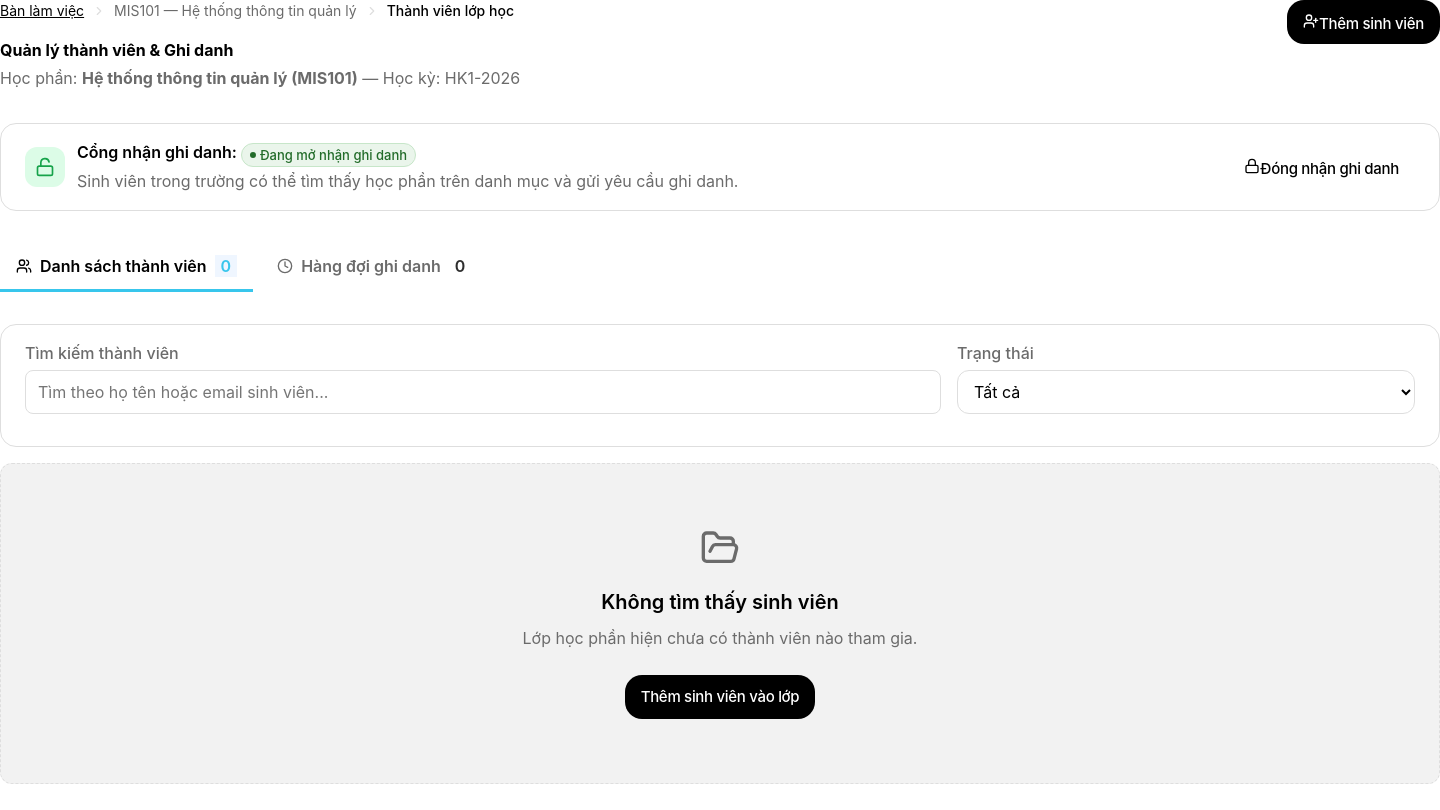
Test: B07-06 Teacher Course Members & Enrollment Requests UI › 8. Từ chối yêu cầu mở modal nhập lý do và gọi coursesService.rejectEnrollmentRequest
This screenshot has width=1440, height=810.
Click the tab "Hàng đợi ghi danh 0". click: coordinates (374, 268)
box: top-left (261, 243), bottom-right (487, 292)
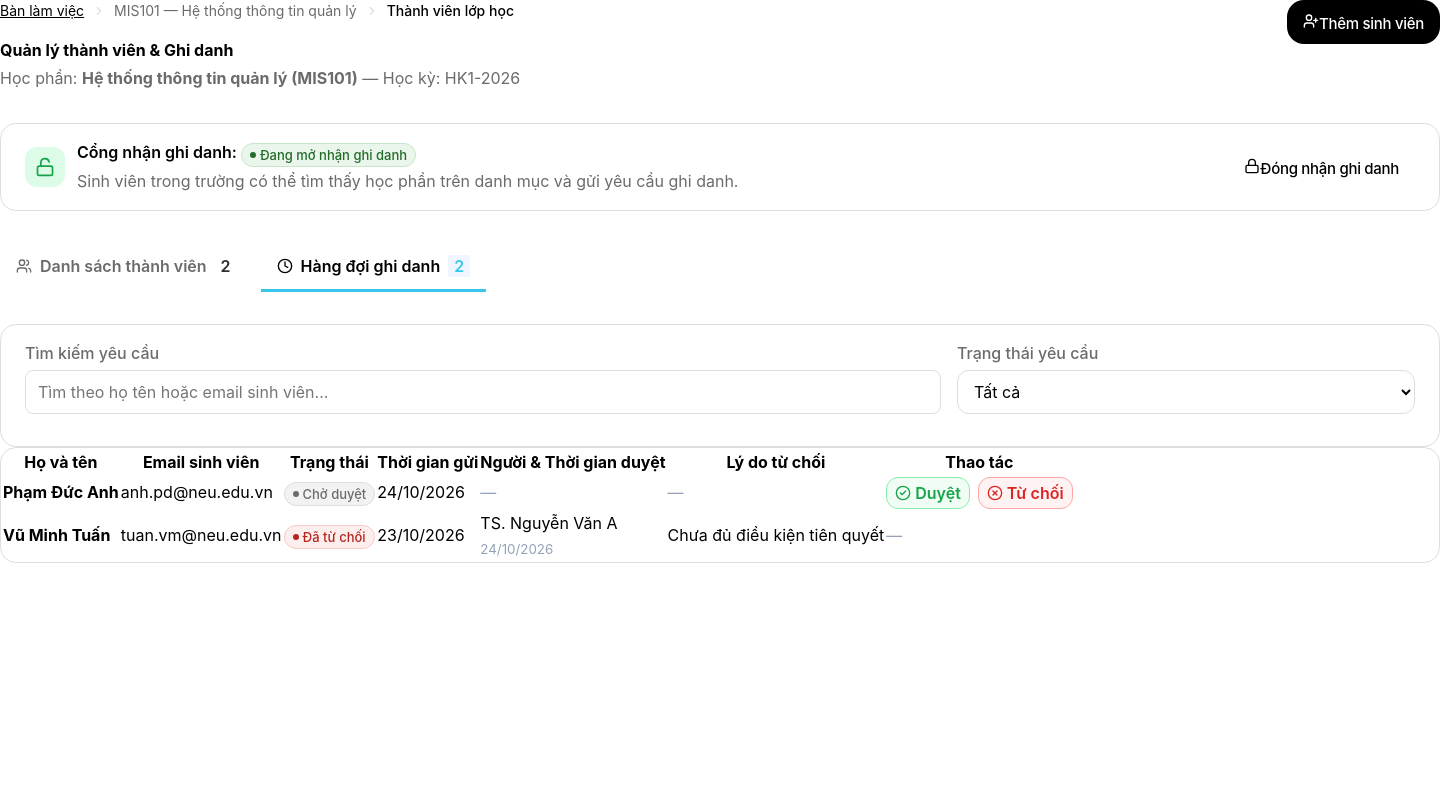
Expected: the text "Phạm Đức Anh" is shown, top-left (3, 482), bottom-right (119, 502)
Click the button with aria-label "Từ chối yêu cầu Phạm Đức Anh". click: coordinates (1025, 493)
box: top-left (978, 477), bottom-right (1073, 509)
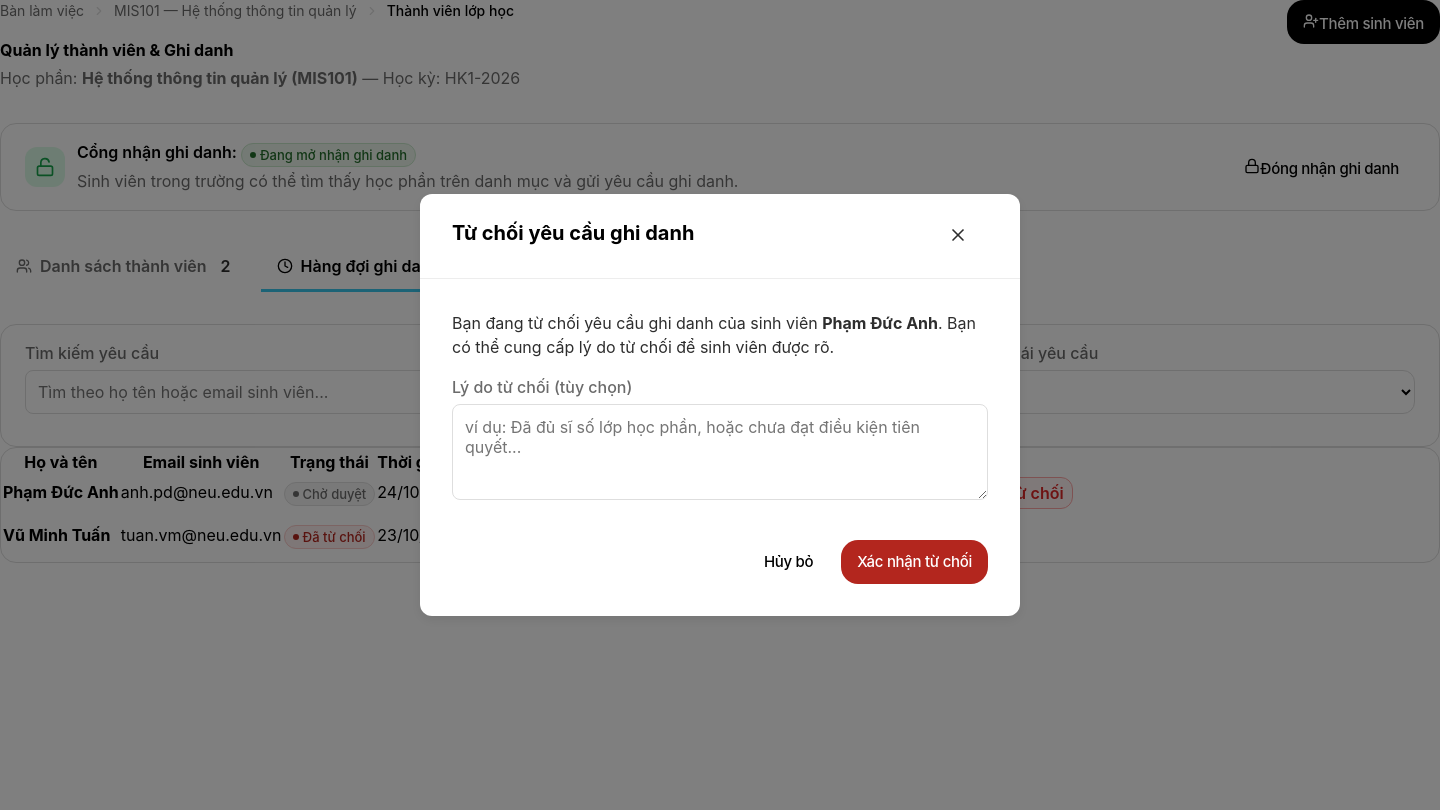
Expected: the heading "Từ chối yêu cầu ghi danh" is shown, top-left (452, 218), bottom-right (694, 249)
Replace the text in the text box labelled "Lý do từ chối (tùy chọn)" with "Lớp đã đủ sĩ số". click: coordinates (720, 452)
box: top-left (452, 404), bottom-right (988, 500)
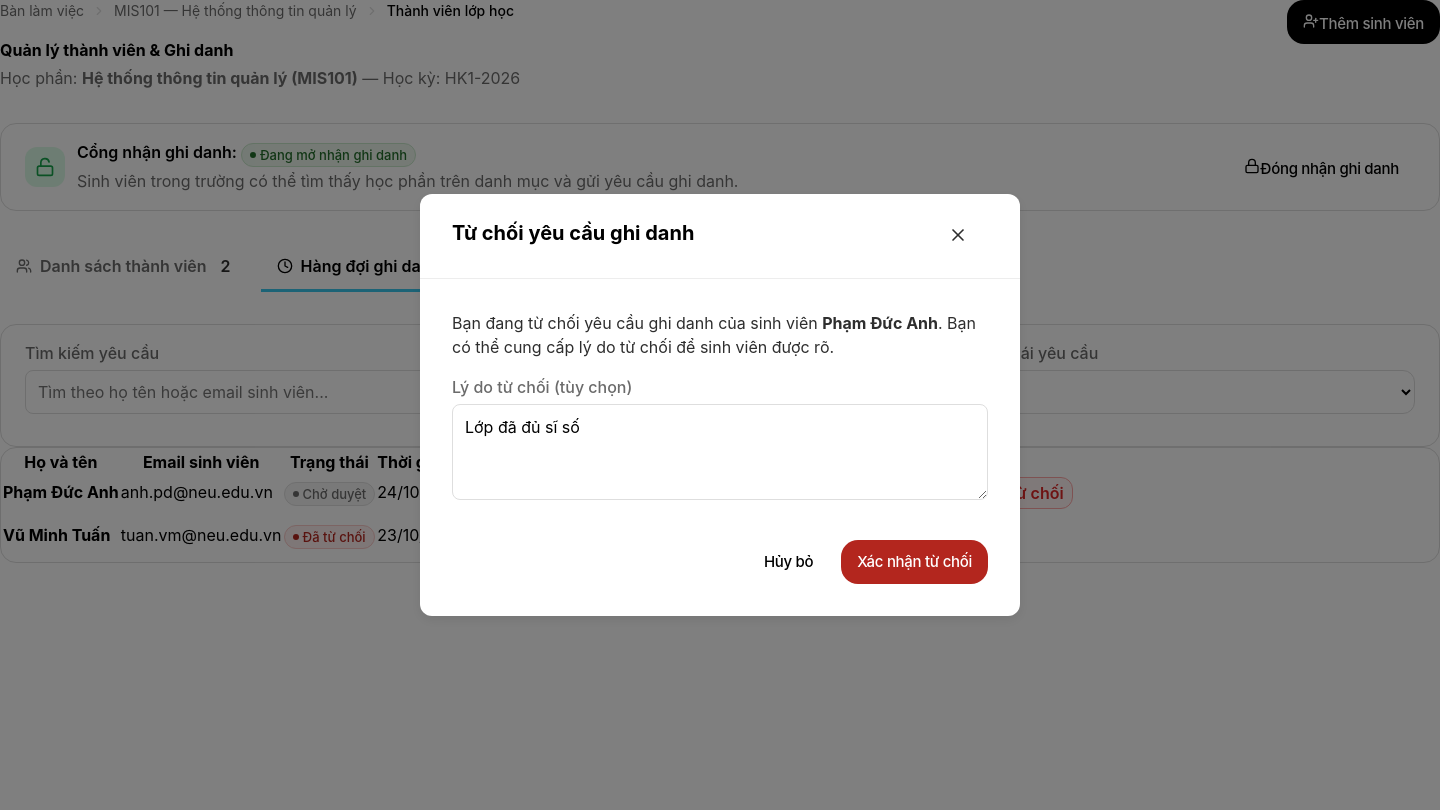
Click the button "Xác nhận từ chối". click: coordinates (915, 562)
box: top-left (841, 540), bottom-right (988, 584)
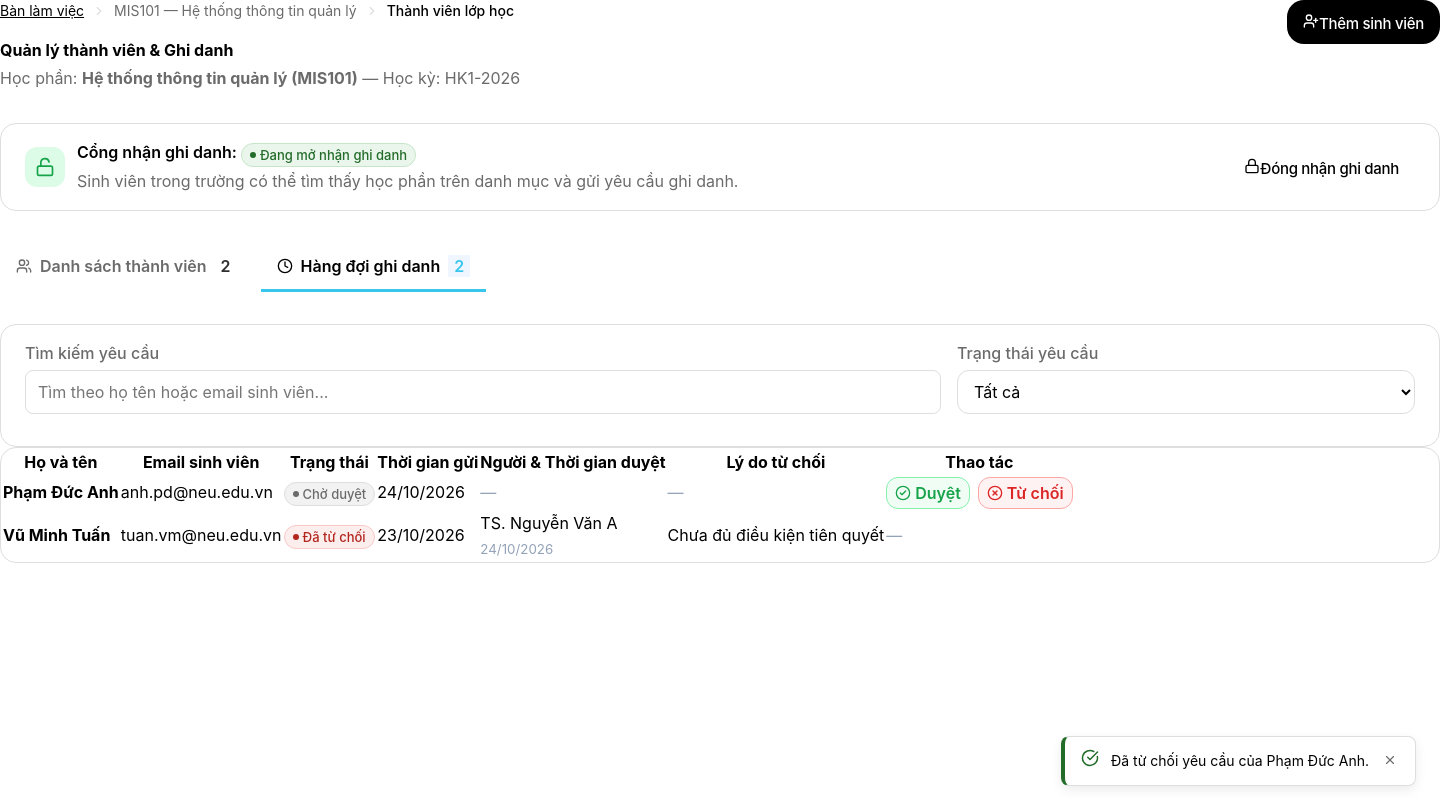
Expected: the heading "Từ chối yêu cầu ghi danh" is gone
